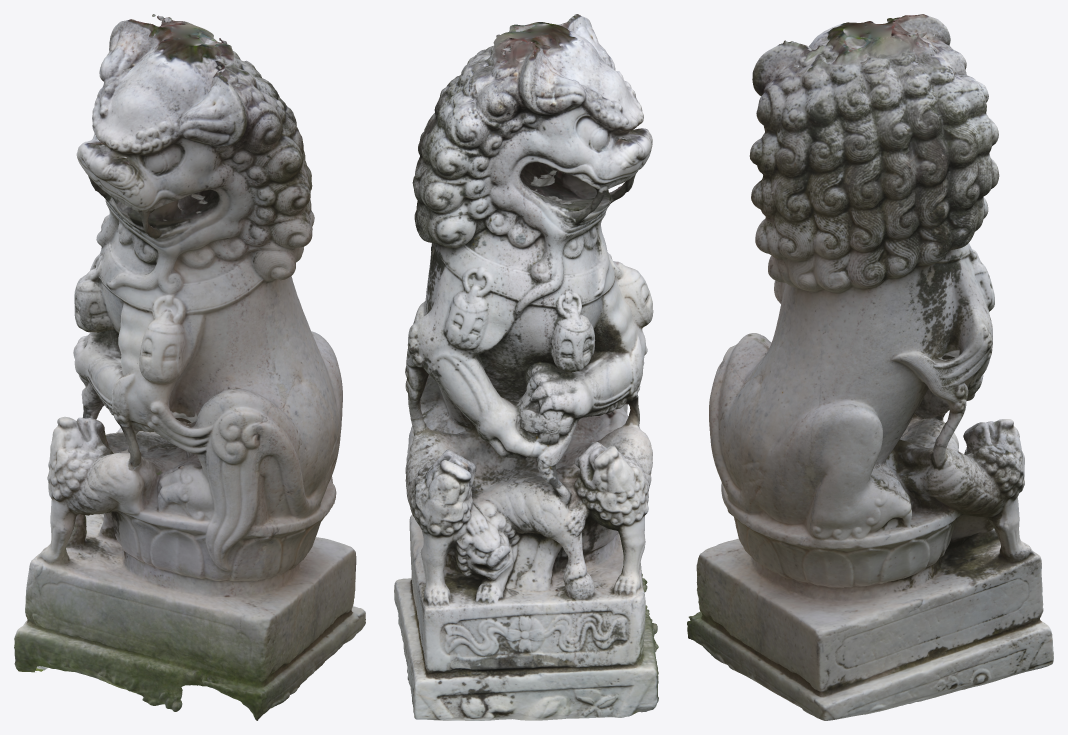
Rendered from harvard-yenching_institute_statue.glb.
3 views of the same model, side by side, from view 1: azimuth 30°, elevation 25°; view 2: azimuth 150°, elevation 25°; view 3: azimuth 270°, elevation 25° (orthographic).
Visible parts, largest first — view 1: Object_2, Object_3, Object_4; view 2: Object_3, Object_4, Object_2; view 3: Object_2, Object_3, Object_4.
Boxes of the visible parts, x1=… form: Object_2: x1=14, y1=14, x2=365, y2=716; Object_3: x1=14, y1=19, x2=321, y2=711; Object_4: x1=17, y1=15, x2=354, y2=720; Object_3: x1=405, y1=14, x2=657, y2=719; Object_4: x1=405, y1=16, x2=657, y2=633; Object_2: x1=394, y1=30, x2=658, y2=720; Object_2: x1=690, y1=18, x2=1053, y2=720; Object_3: x1=749, y1=14, x2=1050, y2=629; Object_4: x1=687, y1=14, x2=1051, y2=664.
Size of the model in its own units: 3.1 by 6.14 by 3.21.
3 materials, 3 textured.
